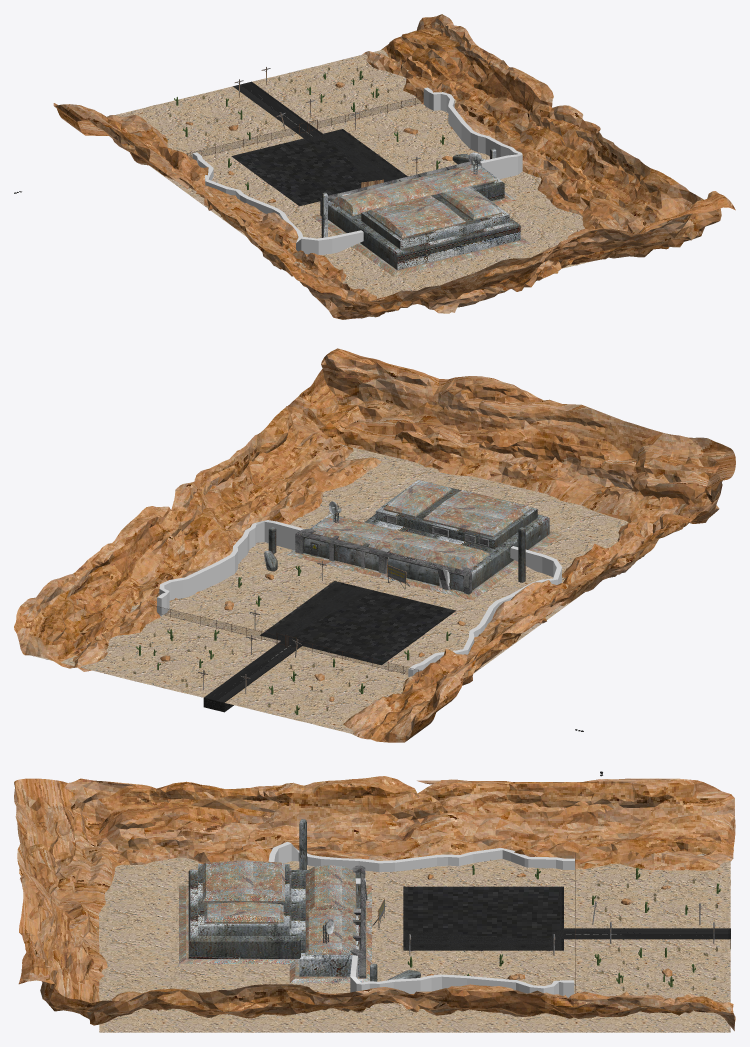
Rendered from sceneCollider.glb.
3 views of the same model, one above another, from view 1: azimuth 30°, elevation 25°; view 2: azimuth 150°, elevation 25°; view 3: azimuth 270°, elevation 25° (orthographic). The views are drawn at different scales.
Visible parts, largest first — view 1: mountain, ground, Cube.005, Cube.014, Cube.016, Cube.023, metalfence_one_side_topbar.001; view 2: mountain, ground, Cube.005, Cube.014, Cube.016, Cube.023, metalfence_one_side_topbar.001; view 3: mountain, ground, Cube.005, Cube.014, Cube.023, Cube.016.
Part boxes in pixels (bbox=[...]): mountain: bbox=[53, 14, 735, 319]; ground: bbox=[106, 50, 609, 305]; Cube.005: bbox=[311, 161, 529, 276]; Cube.014: bbox=[231, 81, 407, 206]; Cube.016: bbox=[423, 87, 522, 179]; Cube.023: bbox=[192, 152, 363, 255]; metalfence_one_side_topbar.001: bbox=[186, 91, 442, 158]; mountain: bbox=[14, 348, 735, 742]; ground: bbox=[30, 444, 628, 736]; Cube.005: bbox=[287, 480, 562, 600]; Cube.014: bbox=[203, 581, 455, 712]; Cube.016: bbox=[157, 520, 304, 616]; Cube.023: bbox=[408, 546, 561, 677]; metalfence_one_side_topbar.001: bbox=[140, 602, 433, 676]; mountain: bbox=[14, 776, 735, 1030]; ground: bbox=[98, 853, 730, 1032]; Cube.005: bbox=[179, 860, 371, 983]; Cube.014: bbox=[403, 886, 730, 950]; Cube.023: bbox=[268, 841, 574, 872]; Cube.016: bbox=[350, 955, 574, 997].
Bounding box in the file's own units: 116 × 16.61 × 130.
Materials: 32 (32 with a texture image).
